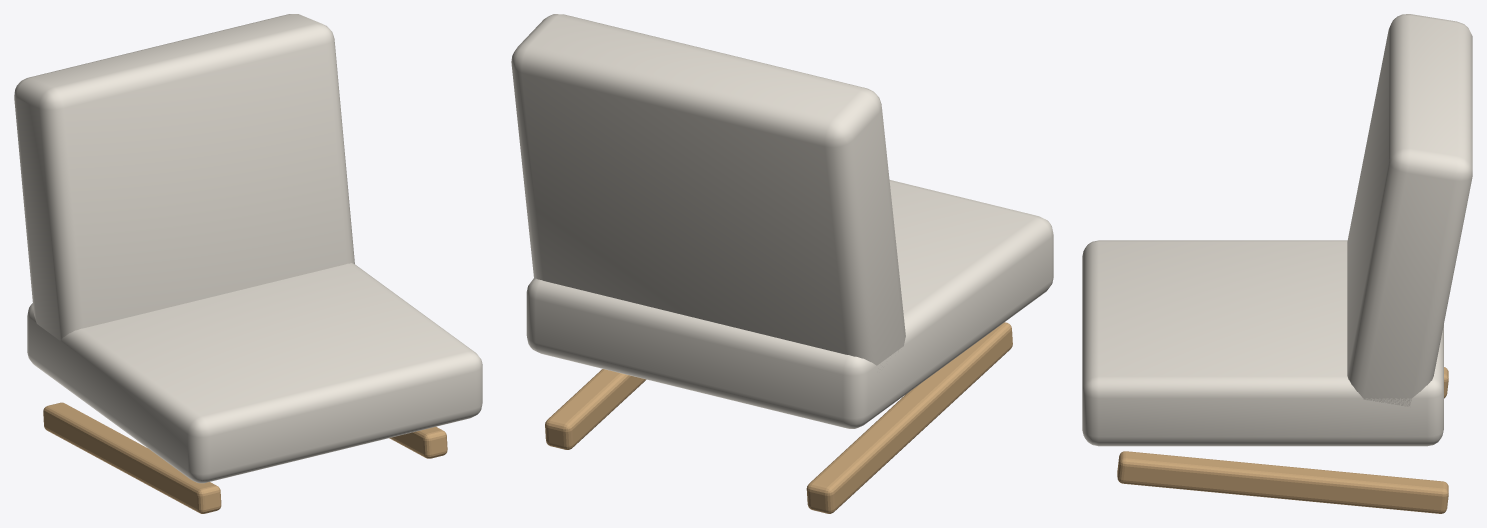
Rendered from lounge-chair.glb.
3 views of the same model, side by side, from view 1: azimuth 30°, elevation 25°; view 2: azimuth 150°, elevation 25°; view 3: azimuth 270°, elevation 25° (orthographic). The views are drawn at different scales.
Visible parts, largest first — view 1: CANONICAL back, CANONICAL seat, CANONICAL oak rail, CANONICAL oak rail.001; view 2: CANONICAL back, CANONICAL seat, CANONICAL oak rail, CANONICAL oak rail.001; view 3: CANONICAL seat, CANONICAL back, CANONICAL oak rail.001.
Boxes of the visible parts, x1,y1,x2,y2 form: CANONICAL back: (14,14,354,340); CANONICAL seat: (27,263,482,483); CANONICAL oak rail: (43,402,221,513); CANONICAL oak rail.001: (389,427,447,458); CANONICAL back: (511,14,905,369); CANONICAL seat: (526,180,1053,428); CANONICAL oak rail: (806,322,1012,513); CANONICAL oak rail.001: (545,369,646,449); CANONICAL seat: (1082,240,1443,446); CANONICAL back: (1347,14,1472,406); CANONICAL oak rail.001: (1117,451,1448,513).
Bounding box in the file's own units: 0.7 × 0.8144 × 0.7776.
